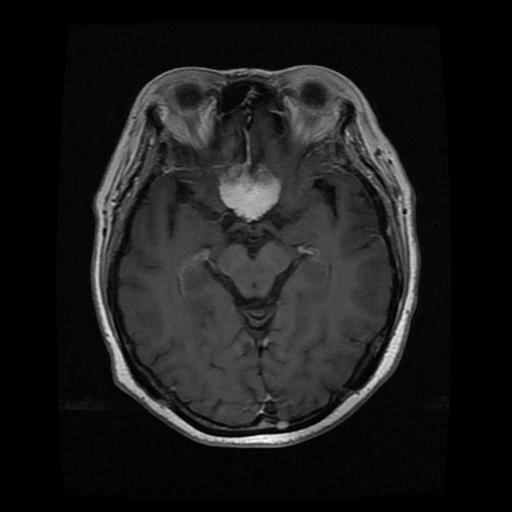Tumour-Meningioma: (200, 148, 300, 234)
